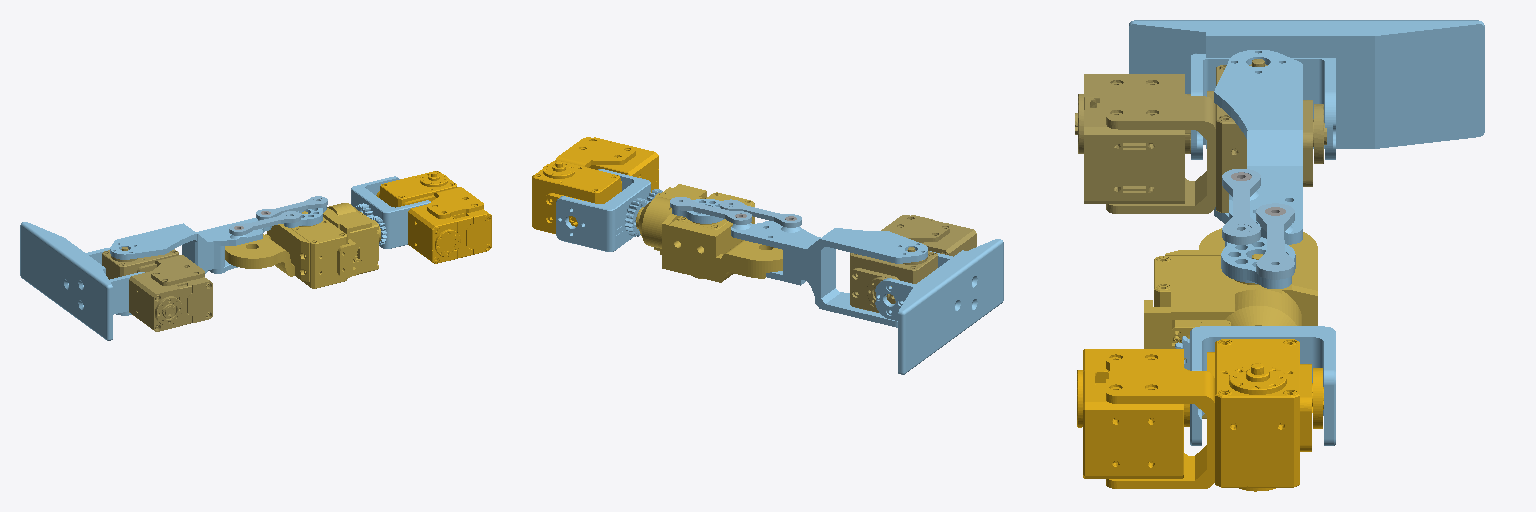
The robot description file, URDF, robot "right_leg_2xm":
<?xml version="1.0" ?><robot name="right_leg_2xm">  
  <link name="right_hip_pitch_link">    
    <visual>      
      <origin xyz="0 0 0" rpy="0 -0 0"/>      
      <geometry>        
        <mesh filename="package:///meshes/right_hip_pitch_link_visual.stl"/>        
      </geometry>      
      <material name="right_hip_pitch_link_material">        
        <color rgba="0.92982090412552342862 0.72254076531321620447 0.12744144951766167573 1.0"/>        
      </material>      
    </visual>    
    <collision>      
      <origin xyz="0 0 0" rpy="0 -0 0"/>      
      <geometry>        
        <mesh filename="package:///meshes/right_hip_pitch_link_collision.stl"/>        
      </geometry>      
    </collision>    
    <inertial>      
      <origin xyz="-0.01170635067017833375 -0.019742757686486544361 -0.018808249759672979878" rpy="0 0 0"/>      
      <mass value="0.19376376696210850792"/>      
      <inertia ixx="0.00011804182389326951623" ixy="1.5895078464523899925e-06" ixz="-3.0802177008483233797e-08" iyy="5.1585603979825105493e-05" iyz="-5.5648114095732285423e-07" izz="0.00013525831068322282606"/>      
    </inertial>    
  </link>  

  <link name="hip_yaw_link">    
    <visual>      
      <origin xyz="0 0 0" rpy="0 -0 0"/>      
      <geometry>        
        <mesh filename="package:///meshes/right_hip_yaw_link_visual.stl"/>        
      </geometry>      
      <material name="hip_yaw_link_material">        
        <color rgba="0.61568627450980395466 0.81176470588235294379 0.92941176470588238168 1.0"/>        
      </material>      
    </visual>    
    <collision>      
      <origin xyz="0 0 0" rpy="0 -0 0"/>      
      <geometry>        
        <mesh filename="package:///meshes/right_hip_yaw_link_collision.stl"/>        
      </geometry>      
    </collision>    
    <inertial>      
      <origin xyz="-1.135134077016976863e-06 0.01638248194604985386 0.024904960957045241959" rpy="0 0 0"/>      
      <mass value="0.013199999999999989519"/>      
      <inertia ixx="6.216463024575245722e-06" ixy="1.711222792995633328e-10" ixz="2.3737014581360037789e-10" iyy="5.5106440267526434637e-06" iyz="8.1727857918858932185e-08" izz="2.6855910648547497853e-06"/>      
    </inertial>    
  </link>  

  <link name="spur_gear_21_teeth">    
    <visual>      
      <origin xyz="0 0 0" rpy="0 -0 0"/>      
      <geometry>        
        <mesh filename="package:///meshes/right_spur_gear_21_teeth_visual.stl"/>        
      </geometry>      
      <material name="spur_gear_21_teeth_material">        
        <color rgba="0.61568627450980395466 0.81176470588235294379 0.9294117647058824927 1.0"/>        
      </material>      
    </visual>    
    <collision>      
      <origin xyz="0 0 0" rpy="0 -0 0"/>      
      <geometry>        
        <mesh filename="package:///meshes/right_spur_gear_21_teeth_collision.stl"/>        
      </geometry>      
    </collision>    
    <inertial>      
      <origin xyz="-4.5505288977337882293e-11 -1.6782163717306987843e-11 -0.0024924102006250539211" rpy="0 0 0"/>      
      <mass value="0.0021999999999999996989"/>      
      <inertia ixx="7.0162310059594183647e-08" ixy="6.9185379282510963078e-39" ixz="5.5122342094673161746e-40" iyy="7.016231005804743531e-08" iyz="-1.9797591643880531248e-71" izz="1.3125544198538286659e-07"/>      
    </inertial>    
  </link>  

  <link name="right_thigh_link">    
    <visual>      
      <origin xyz="0 0 0" rpy="0 -0 0"/>      
      <geometry>        
        <mesh filename="package:///meshes/right_thigh_link_visual.stl"/>        
      </geometry>      
      <material name="right_thigh_link_material">        
        <color rgba="0.81231119922470296224 0.7131158892107314351 0.33680089849959454762 1.0"/>        
      </material>      
    </visual>    
    <collision>      
      <origin xyz="0 0 0" rpy="0 -0 0"/>      
      <geometry>        
        <mesh filename="package:///meshes/right_thigh_link_collision.stl"/>        
      </geometry>      
    </collision>    
    <inertial>      
      <origin xyz="0.010187905578010832477 -0.0056188467228509399523 0.038815928333491692137" rpy="0 0 0"/>      
      <mass value="0.14548965119785953193"/>      
      <inertia ixx="7.0942049594865160683e-05" ixy="1.1158758975155788993e-06" ixz="7.6515558781285007971e-06" iyy="8.515739880291365064e-05" iyz="1.069933739907198978e-06" izz="4.0945306935232121995e-05"/>      
    </inertial>    
  </link>  

  <link name="spur_gear_18_teeth">    
    <visual>      
      <origin xyz="0 0 0" rpy="0 -0 0"/>      
      <geometry>        
        <mesh filename="package:///meshes/right_spur_gear_18_teeth_visual.stl"/>        
      </geometry>      
      <material name="spur_gear_18_teeth_material">        
        <color rgba="0.61568627450980395466 0.81176470588235294379 0.92941176470588238168 1.0"/>        
      </material>      
    </visual>    
    <collision>      
      <origin xyz="0 0 0" rpy="0 -0 0"/>      
      <geometry>        
        <mesh filename="package:///meshes/right_spur_gear_18_teeth_collision.stl"/>        
      </geometry>      
    </collision>    
    <inertial>      
      <origin xyz="1.1201704073225982176e-18 -1.2342259190192713513e-17 0.0017499999999999922302" rpy="0 0 0"/>      
      <mass value="0.0012000000000000001117"/>      
      <inertia ixx="2.9545593202975796841e-08" ixy="1.2382036808367865321e-38" ixz="4.6295946344312827085e-37" iyy="2.9545593202975872942e-08" iyz="-1.1444185360592795855e-38" izz="5.6662838285388571446e-08"/>      
    </inertial>    
  </link>  

  <joint name="right_hip_yaw_drive" type="revolute">    
    <origin xyz="0.019200000000000608941 0.00019999999999991205368 -3.986394547794702703e-14" rpy="-3.1415926535897487071 -3.3554531021644002431e-13 4.6155381424903106362e-13"/>    
    <parent link="right_thigh_link"/>    
    <child link="spur_gear_18_teeth"/>    
    <axis xyz="0 0 1"/>    
    <limit effort="1" velocity="20" lower="-1.8325957145940461324" upper="1.8325957145940461324"/>    
    <joint_properties friction="0.0"/>    
  </joint>  

  <link name="right_calf_link">    
    <visual>      
      <origin xyz="0 0 0" rpy="0 -0 0"/>      
      <geometry>        
        <mesh filename="package:///meshes/right_calf_link_visual.stl"/>        
      </geometry>      
      <material name="right_calf_link_material">        
        <color rgba="0.61568627450980395466 0.81176470588235294379 0.92941176470588238168 1.0"/>        
      </material>      
    </visual>    
    <collision>      
      <origin xyz="0 0 0" rpy="0 -0 0"/>      
      <geometry>        
        <mesh filename="package:///meshes/right_calf_link_collision.stl"/>        
      </geometry>      
    </collision>    
    <inertial>      
      <origin xyz="-0.0043450054394401412677 -0.040752982164757395322 0.0087116093514751861276" rpy="0 0 0"/>      
      <mass value="0.0309999999999999859"/>      
      <inertia ixx="3.3069388685436868305e-05" ixy="1.3783307152005356137e-06" ixz="-1.2742534017148746522e-07" iyy="7.7316525337489631496e-06" iyz="7.3356500737981874876e-08" izz="2.8031377754211893143e-05"/>      
    </inertial>    
  </link>  

  <link name="bearing_683">    
    <visual>      
      <origin xyz="0 0 0" rpy="0 -0 0"/>      
      <geometry>        
        <mesh filename="package:///meshes/right_bearing_683_visual.stl"/>        
      </geometry>      
      <material name="bearing_683_material">        
        <color rgba="0.64705882352941179736 0.64705882352941179736 0.64705882352941179736 1.0"/>        
      </material>      
    </visual>    
    <collision>      
      <origin xyz="0 0 0" rpy="0 -0 0"/>      
      <geometry>        
        <mesh filename="package:///meshes/right_bearing_683_collision.stl"/>        
      </geometry>      
    </collision>    
    <inertial>      
      <origin xyz="-2.7648254672676539312e-17 6.2549399515680128509e-19 -0.0015500000000000003792" rpy="0 0 0"/>      
      <mass value="0.00048694686130641793437"/>      
      <inertia ixx="2.1551456503319887385e-09" ixy="5.938329734254552816e-29" ixz="4.2234669276366031341e-39" iyy="2.1551456503319883249e-09" iyz="-6.7335134926202872924e-41" izz="3.5303647444715305817e-09"/>      
    </inertial>    
  </link>  

  <joint name="right_knee_front_rev_2" type="revolute">    
    <origin xyz="0.0057402514854763718108 -0.013858192987669770702 0.026200000000000028821" rpy="3.141592653589793116 4.7532333134949093273e-16 1.5719104681400370982"/>    
    <parent link="right_calf_link"/>    
    <child link="bearing_683"/>    
    <axis xyz="0 0 1"/>    
    <limit effort="1" velocity="20"/>    
    <joint_properties friction="0.0"/>    
  </joint>  

  <link name="bearing_683_2">    
    <visual>      
      <origin xyz="0 0 0" rpy="0 -0 0"/>      
      <geometry>        
        <mesh filename="package:///meshes/right_bearing_683_2_visual.stl"/>        
      </geometry>      
      <material name="bearing_683_2_material">        
        <color rgba="0.64705882352941179736 0.64705882352941179736 0.64705882352941179736 1.0"/>        
      </material>      
    </visual>    
    <collision>      
      <origin xyz="0 0 0" rpy="0 -0 0"/>      
      <geometry>        
        <mesh filename="package:///meshes/right_bearing_683_2_collision.stl"/>        
      </geometry>      
    </collision>    
    <inertial>      
      <origin xyz="-2.7648254672676536231e-17 -2.4186774283160226211e-19 -0.0015500000000000003792" rpy="0 0 0"/>      
      <mass value="0.00048694686130641793437"/>      
      <inertia ixx="2.1551456503319887385e-09" ixy="-2.4504277341214625333e-28" ixz="3.3901768108754338424e-41" iyy="2.1551456503319883249e-09" iyz="5.4755107341247360049e-60" izz="3.5303647444715305817e-09"/>      
    </inertial>    
  </link>  

  <joint name="right_knee_back_rev_2" type="revolute">    
    <origin xyz="-0.0057402514854763934948 0.013858192987669021301 0.026199999999999980249" rpy="3.1415926535897922278 -1.6769178092422380047e-15 1.5719169850876628658"/>    
    <parent link="right_calf_link"/>    
    <child link="bearing_683_2"/>    
    <axis xyz="0 0 1"/>    
    <limit effort="1" velocity="20"/>    
    <joint_properties friction="0.0"/>    
  </joint>  

  <link name="right_ank_pitch_link">    
    <visual>      
      <origin xyz="0 0 0" rpy="0 -0 0"/>      
      <geometry>        
        <mesh filename="package:///meshes/right_ank_pitch_link_visual.stl"/>        
      </geometry>      
      <material name="right_ank_pitch_link_material">        
        <color rgba="0.70321688500203327621 0.64514870846184446673 0.40484735422826279017 1.0"/>        
      </material>      
    </visual>    
    <collision>      
      <origin xyz="0 0 0" rpy="0 -0 0"/>      
      <geometry>        
        <mesh filename="package:///meshes/right_ank_pitch_link_collision.stl"/>        
      </geometry>      
    </collision>    
    <inertial>      
      <origin xyz="-0.01777042274983306816 0.012417933919336260687 0.018814514831173693304" rpy="0 0 0"/>      
      <mass value="0.17676376695067899658"/>      
      <inertia ixx="4.7033279140152881915e-05" ixy="5.8981907474083015582e-07" ixz="6.1533221595097461637e-07" iyy="0.00010706754769297033216" iyz="-5.2427772221904961753e-08" izz="0.00012159782212990462183"/>      
    </inertial>    
  </link>  

  <link name="ank_roll_link">    
    <visual>      
      <origin xyz="0 0 0" rpy="0 -0 0"/>      
      <geometry>        
        <mesh filename="package:///meshes/right_ank_roll_link_visual.stl"/>        
      </geometry>      
      <material name="ank_roll_link_material">        
        <color rgba="0.61568627450980395466 0.81176470588235294379 0.92941176470588238168 1.0"/>        
      </material>      
    </visual>    
    <collision>      
      <origin xyz="0 0 0" rpy="0 -0 0"/>      
      <geometry>        
        <mesh filename="package:///meshes/right_ank_roll_link_collision.stl"/>        
      </geometry>      
    </collision>    
    <inertial>      
      <origin xyz="-0.026987231947660686449 5.6532512304029935813e-13 0.033766671354451605058" rpy="0 0 0"/>      
      <mass value="0.042599999999999998979"/>      
      <inertia ixx="3.7149943594118530626e-05" ixy="1.9666667662832936347e-17" ixz="2.3895918372292815406e-06" iyy="3.7472718057541049203e-05" iyz="7.8258680124225771449e-12" izz="1.0051685129153372671e-05"/>      
    </inertial>    
  </link>  

  <joint name="right_ank_roll" type="revolute">    
    <origin xyz="-0.022749999999990028199 -3.5249581031848720158e-15 0.018999999999999451356" rpy="1.5707963267948190644 2.082200812017336445e-14 1.5707963267948397146"/>    
    <parent link="right_ank_pitch_link"/>    
    <child link="ank_roll_link"/>    
    <axis xyz="0 0 1"/>    
    <limit effort="1" velocity="20" lower="-1.570796326794896558" upper="1.570796326794896558"/>    
    <joint_properties friction="0.0"/>    
  </joint>  

  <joint name="right_ank_pitch" type="revolute">    
    <origin xyz="3.5236570605778894105e-17 -0.09999999999999995004 0.027749999999999993422" rpy="-3.1415926535897917837 -7.8513249565814058339e-16 -3.1415926535897864547"/>    
    <parent link="right_calf_link"/>    
    <child link="right_ank_pitch_link"/>    
    <axis xyz="0 0 1"/>    
    <limit effort="1" velocity="20" lower="-0.785398163397448279" upper="1.7453292519943295336"/>    
    <joint_properties friction="0.0"/>    
  </joint>  

  <joint name="right_knee" type="revolute">    
    <origin xyz="9.915028867379938049e-17 -0.0087500000000001326717 0.085950000000000637002" rpy="-1.57079632679489678 -1.8596235662471439105e-15 -1.7091941954032421329e-15"/>    
    <parent link="right_thigh_link"/>    
    <child link="right_calf_link"/>    
    <axis xyz="0 0 1"/>    
    <limit effort="1" velocity="20" lower="0" upper="1.570796326794896558"/>    
    <joint_properties friction="0.0"/>    
  </joint>  

  <link name="xm430_plate">    
    <visual>      
      <origin xyz="0 0 0" rpy="0 -0 0"/>      
      <geometry>        
        <mesh filename="package:///meshes/right_xm430_plate_visual.stl"/>        
      </geometry>      
      <material name="xm430_plate_material">        
        <color rgba="0.61568627450980395466 0.81176470588235294379 0.92941176470588227065 1.0"/>        
      </material>      
    </visual>    
    <collision>      
      <origin xyz="0 0 0" rpy="0 -0 0"/>      
      <geometry>        
        <mesh filename="package:///meshes/right_xm430_plate_collision.stl"/>        
      </geometry>      
    </collision>    
    <inertial>      
      <origin xyz="-1.0678768463071413547e-18 -2.7932101897381823422e-18 0.0025278513919583835146" rpy="0 0 0"/>      
      <mass value="0.0026999999999999997093"/>      
      <inertia ixx="2.4635091298412528789e-07" ixy="5.8739562556303540361e-08" ixz="-6.1340137510844996234e-39" iyy="1.2887178787151819394e-07" iyz="3.0966973396831916887e-38" izz="3.646799841381030595e-07"/>      
    </inertial>    
  </link>  

  <link name="knee_rod">    
    <visual>      
      <origin xyz="0 0 0" rpy="0 -0 0"/>      
      <geometry>        
        <mesh filename="package:///meshes/right_knee_rod_visual.stl"/>        
      </geometry>      
      <material name="knee_rod_material">        
        <color rgba="0.62051618944235198416 0.78640765248647581664 0.88594253031295022716 1.0"/>        
      </material>      
    </visual>    
    <collision>      
      <origin xyz="0 0 0" rpy="0 -0 0"/>      
      <geometry>        
        <mesh filename="package:///meshes/right_knee_rod_collision.stl"/>        
      </geometry>      
    </collision>    
    <inertial>      
      <origin xyz="0.017534291149574238872 3.9071397871386789554e-05 -0.0015981336617514770287" rpy="0 0 0"/>      
      <mass value="0.0031629468613064179276"/>      
      <inertia ixx="2.7978910170551288005e-08" ixy="-3.94307030303930001e-10" ixz="4.8576304552482821547e-10" iyy="8.7495156744971494086e-07" iyz="1.0824185061383664554e-12" izz="8.9816305133507018681e-07"/>      
    </inertial>    
  </link>  

  <joint name="right_knee_front_rev_1" type="revolute">    
    <origin xyz="0.0057402514854763813518 -0.013858192987669354368 0.0049999999999999922978" rpy="-3.141592653589793116 -2.2680076696535559301e-15 -1.5696821854497560178"/>    
    <parent link="xm430_plate"/>    
    <child link="knee_rod"/>    
    <axis xyz="0 0 1"/>    
    <limit effort="1" velocity="20"/>    
    <joint_properties friction="0.0"/>    
  </joint>  

  <link name="knee_rod_2">    
    <visual>      
      <origin xyz="0 0 0" rpy="0 -0 0"/>      
      <geometry>        
        <mesh filename="package:///meshes/right_knee_rod_2_visual.stl"/>        
      </geometry>      
      <material name="knee_rod_2_material">        
        <color rgba="0.62051618944235198416 0.78640765248647581664 0.88594253031295022716 1.0"/>        
      </material>      
    </visual>    
    <collision>      
      <origin xyz="0 0 0" rpy="0 -0 0"/>      
      <geometry>        
        <mesh filename="package:///meshes/right_knee_rod_2_collision.stl"/>        
      </geometry>      
    </collision>    
    <inertial>      
      <origin xyz="0.017534290894203184707 3.9299938126582091243e-05 -0.0015981336617514319259" rpy="0 0 0"/>      
      <mass value="0.0031629468613064179276"/>      
      <inertia ixx="2.7978920479332387554e-08" ixy="-3.9661344391086863808e-10" ixz="4.8576303845852543957e-10" iyy="8.7495156229529202847e-07" iyz="1.0887498949803466658e-12" izz="8.9816305648941188991e-07"/>      
    </inertial>    
  </link>  

  <joint name="right_knee_back_rev_1" type="revolute">    
    <origin xyz="-0.005740251485476307626 0.013858192987669243346 0.0050000000000000209208" rpy="-3.1415926535897926719 -7.2263408907627713374e-17 -1.5696756685021302502"/>    
    <parent link="xm430_plate"/>    
    <child link="knee_rod_2"/>    
    <axis xyz="0 0 1"/>    
    <limit effort="1" velocity="20"/>    
    <joint_properties friction="0.0"/>    
  </joint>  

  <joint name="right_knee_act" type="revolute">    
    <origin xyz="-3.4965520062657517997e-17 0.012449999999999900382 0.044500000000000414224" rpy="-1.5707963267948978903 -1.8873791418627653299e-15 -1.8392984561052994525e-15"/>    
    <parent link="right_thigh_link"/>    
    <child link="xm430_plate"/>    
    <axis xyz="0 0 1"/>    
    <limit effort="1" velocity="20" lower="0" upper="1.570796326794896558"/>    
    <joint_properties friction="0.0"/>    
  </joint>  

  <joint name="right_hip_yaw_driven" type="revolute">    
    <origin xyz="-5.1120132432691534063e-17 -1.1449174941446926823e-16 -0.0050000000000000044409" rpy="3.141592653589793116 1.1586097708402311315e-16 -1.9261630240694359833e-15"/>    
    <parent link="spur_gear_21_teeth"/>    
    <child link="right_thigh_link"/>    
    <axis xyz="0 0 1"/>    
    <limit effort="1" velocity="20" lower="-1.570796326794896558" upper="1.570796326794896558"/>    
    <joint_properties friction="0.0"/>    
  </joint>  

  <joint name="right_hip_yaw_fixed" type="fixed">    
    <origin xyz="1.1449174941446926823e-16 0.027999999999999990175 0.022999999999999951039" rpy="1.57079632679489678 1.570796326794896336 0"/>    
    <parent link="hip_yaw_link"/>    
    <child link="spur_gear_21_teeth"/>    
    <axis xyz="0 0 1"/>    
    <limit effort="1" velocity="20"/>    
    <joint_properties friction="0.0"/>    
  </joint>  

  <joint name="right_hip_roll" type="revolute">    
    <origin xyz="-0.023750000000001200706 -0.022749999999999999389 -0.018950000000000081363" rpy="-1.570796326794896558 1.5707963267948952257 0"/>    
    <parent link="right_hip_pitch_link"/>    
    <child link="hip_yaw_link"/>    
    <axis xyz="0 0 1"/>    
    <limit effort="1" velocity="20" lower="-1.570796326794896558" upper="1.570796326794896558"/>    
    <joint_properties friction="0.0"/>    
  </joint>  


</robot>

--- What the picture shows (computed from the rendered views, not written in the file) ---
The picture shows the robot from 3 angles, left to right: view 1: azimuth 30°, elevation 25°; view 2: azimuth 150°, elevation 25°; view 3: azimuth 270°, elevation 25°; orthographic projection.
Model right_leg_2xm with 13 links and 12 joints (11 revolute, 1 fixed), rooted at right_hip_pitch_link, posed every joint at zero.
Visible links, largest first — view 1: right_thigh_link, ank_roll_link, right_hip_pitch_link, right_ank_pitch_link, right_calf_link, hip_yaw_link, knee_rod, knee_rod_2; view 2: ank_roll_link, right_thigh_link, right_calf_link, right_hip_pitch_link, right_ank_pitch_link, hip_yaw_link, knee_rod_2, knee_rod, xm430_plate; view 3: right_hip_pitch_link, ank_roll_link, right_ank_pitch_link, right_thigh_link, right_calf_link, hip_yaw_link, knee_rod_2, knee_rod, xm430_plate.
Link boxes in pixels (x1=…): right_thigh_link: x1=225, y1=203, x2=380, y2=288; ank_roll_link: x1=20, y1=222, x2=144, y2=340; right_hip_pitch_link: x1=376, y1=171, x2=491, y2=263; right_ank_pitch_link: x1=102, y1=247, x2=212, y2=331; right_calf_link: x1=110, y1=218, x2=271, y2=315; hip_yaw_link: x1=351, y1=176, x2=430, y2=248; knee_rod: x1=229, y1=211, x2=300, y2=235; knee_rod_2: x1=256, y1=196, x2=327, y2=219; ank_roll_link: x1=875, y1=239, x2=1003, y2=374; right_thigh_link: x1=636, y1=184, x2=782, y2=282; right_calf_link: x1=731, y1=221, x2=927, y2=327; right_hip_pitch_link: x1=532, y1=137, x2=658, y2=233; right_ank_pitch_link: x1=850, y1=215, x2=976, y2=312; hip_yaw_link: x1=556, y1=169, x2=650, y2=251; knee_rod_2: x1=670, y1=197, x2=751, y2=224; knee_rod: x1=720, y1=199, x2=801, y2=227; xm430_plate: x1=672, y1=199, x2=723, y2=223; right_hip_pitch_link: x1=1077, y1=339, x2=1323, y2=491; ank_roll_link: x1=1129, y1=20, x2=1484, y2=159; right_ank_pitch_link: x1=1075, y1=59, x2=1326, y2=213; right_thigh_link: x1=1144, y1=228, x2=1317, y2=418; right_calf_link: x1=1214, y1=50, x2=1302, y2=244; hip_yaw_link: x1=1190, y1=326, x2=1335, y2=445; knee_rod_2: x1=1256, y1=203, x2=1294, y2=279; knee_rod: x1=1222, y1=169, x2=1260, y2=244; xm430_plate: x1=1221, y1=237, x2=1295, y2=288.
Bounding box of the posed robot: 0.2932 × 0.138 × 0.0489 m (x, y, z).
13 mesh visuals loaded from 13 distinct referenced files (13 binary STL).